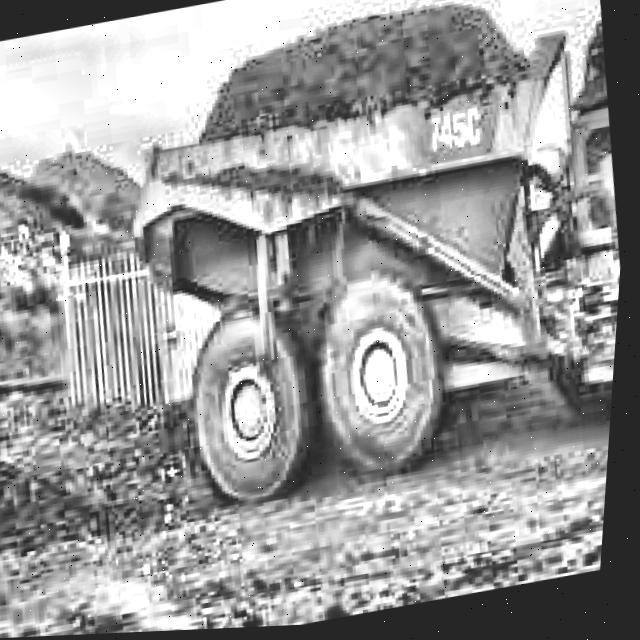dump_truck: (89, 0, 640, 555)
